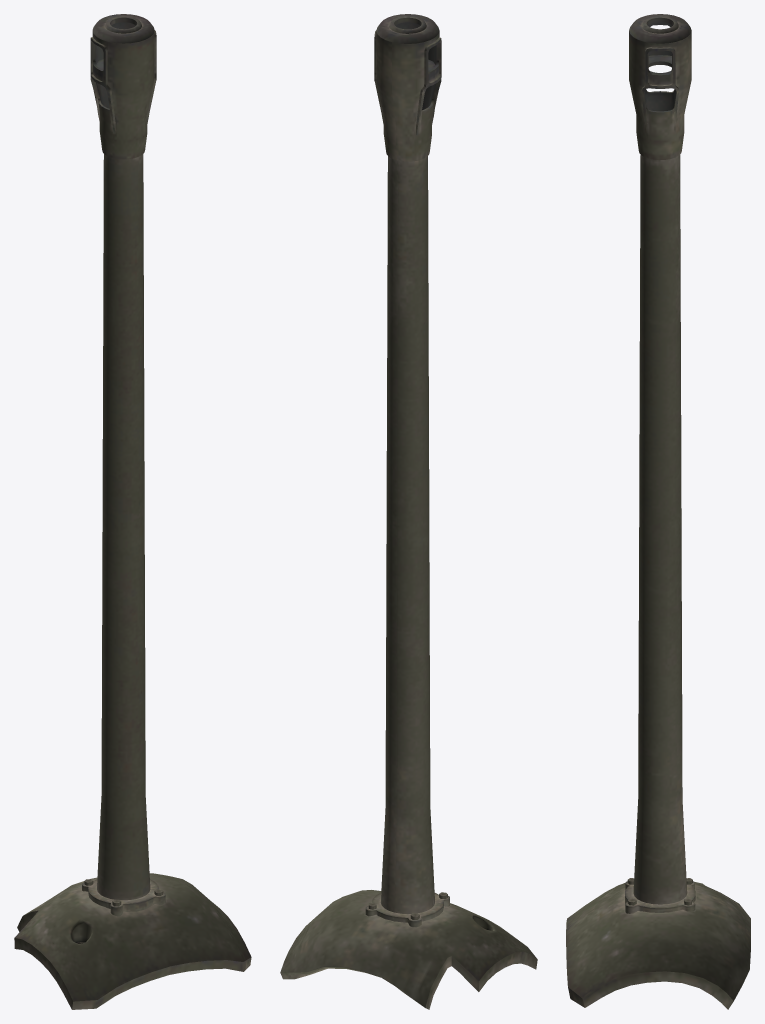
File: Gun_01.glb
3 renders of one model, left to right at view 1: azimuth 30°, elevation 25°; view 2: azimuth 150°, elevation 25°; view 3: azimuth 270°, elevation 25°, orthographic.
Parts seen in each view (by area): view 1: set_0_group_0; view 2: set_0_group_0; view 3: set_0_group_0.
Boxes of the visible parts, x1=… form: set_0_group_0: x1=14, y1=14, x2=251, y2=1009; set_0_group_0: x1=280, y1=14, x2=537, y2=1009; set_0_group_0: x1=566, y1=14, x2=750, y2=1009.
Size of the model in its own units: 0.8926 by 4.47 by 0.7954.
Materials: 1 (1 with a texture image).
